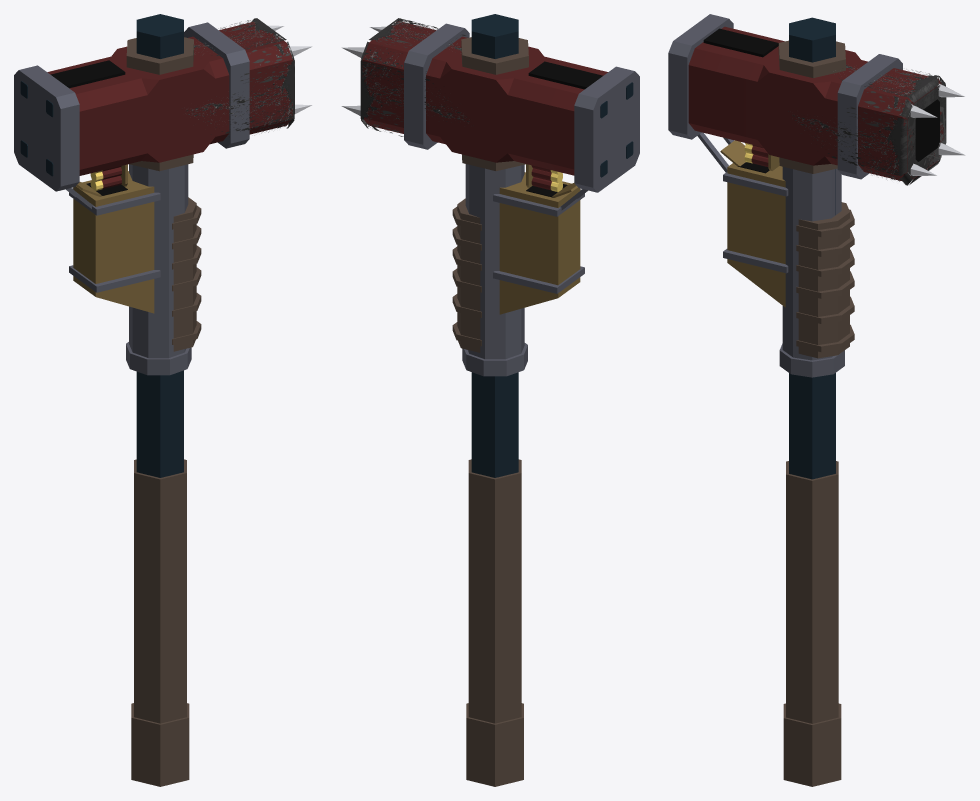
File: Decimator.glb
3 renders of one model, left to right at view 1: azimuth 30°, elevation 25°; view 2: azimuth 150°, elevation 25°; view 3: azimuth 330°, elevation 25°, orthographic.
Parts seen in each view (by area): view 1: Decimator.005; view 2: Decimator.005; view 3: Decimator.005.
Boxes of the visible parts, x1,y1,x2,y2 form: Decimator.005: (14, 14, 312, 786); Decimator.005: (341, 14, 639, 786); Decimator.005: (668, 14, 965, 786).
Size of the model in its own units: 1.9 by 5.18 by 0.5889.
Materials: 11 (3 with a texture image).
